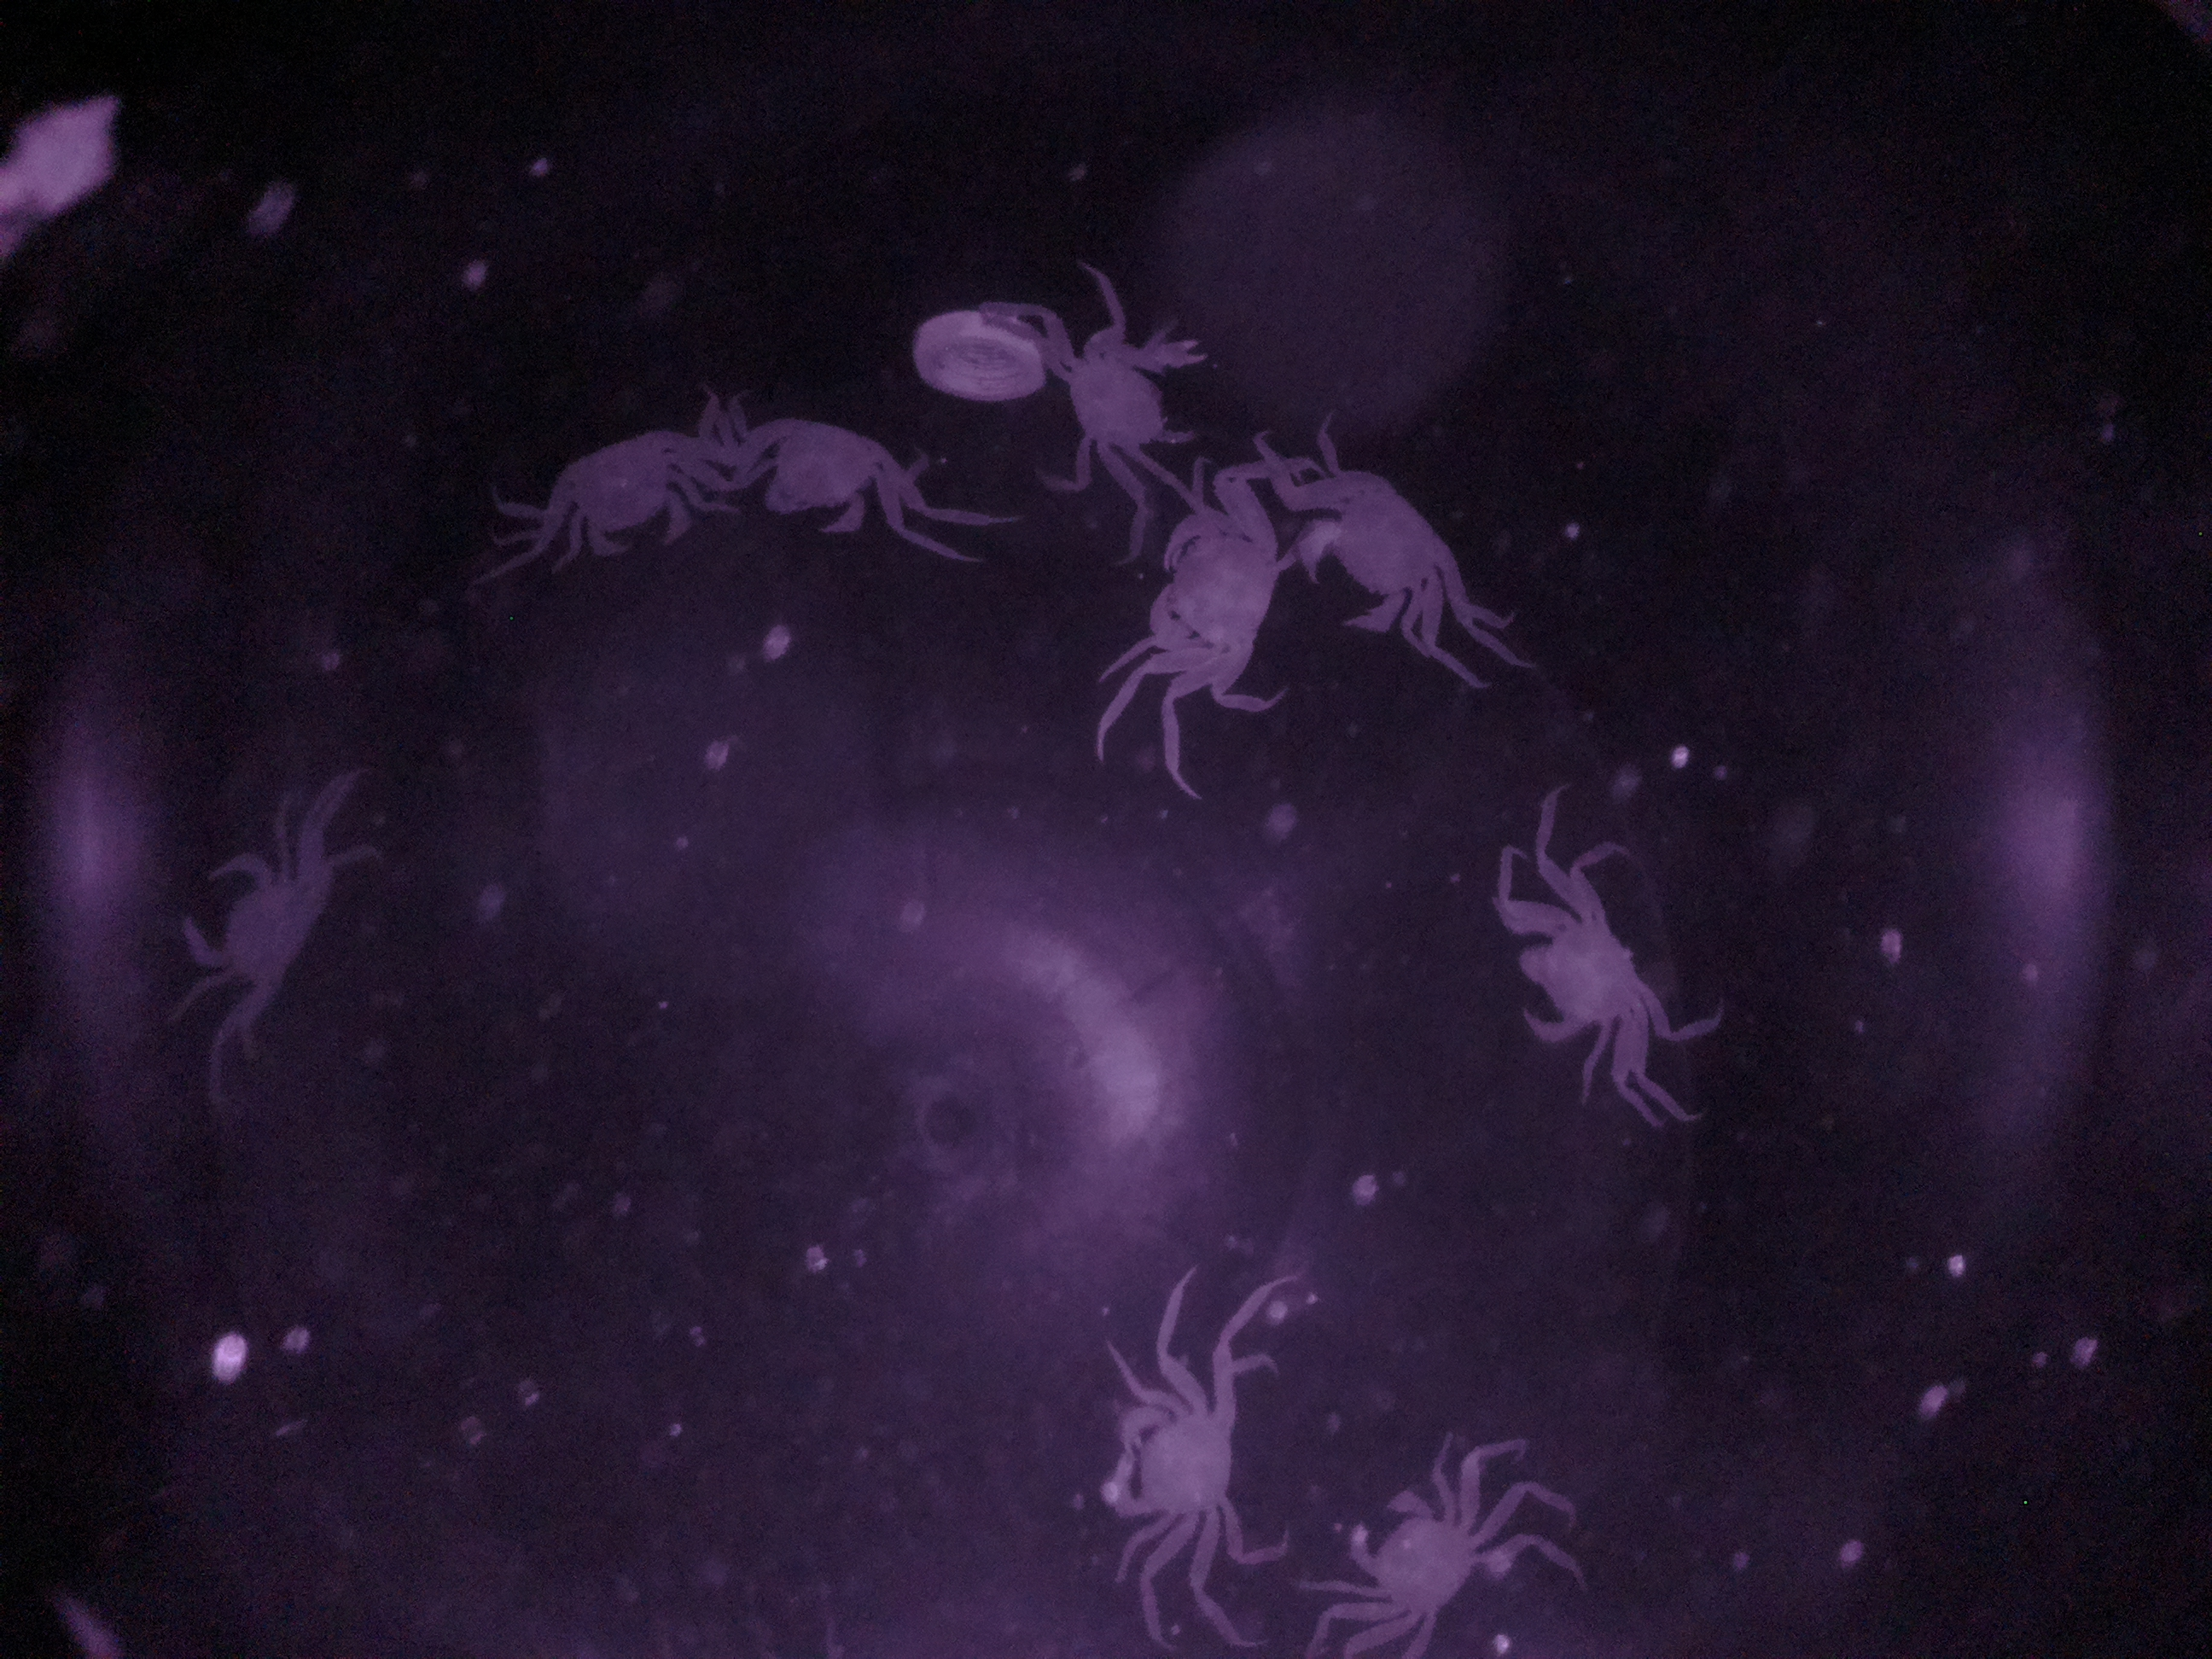Crab: (1287, 443, 1482, 669), (1493, 863, 1677, 1086), (1089, 1316, 1244, 1579), (1332, 1446, 1521, 1659), (1139, 464, 1292, 716), (707, 394, 932, 556), (526, 380, 709, 575), (162, 831, 343, 1026)
